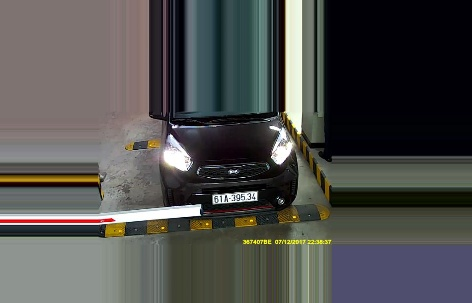plate: (211, 191, 260, 203)
